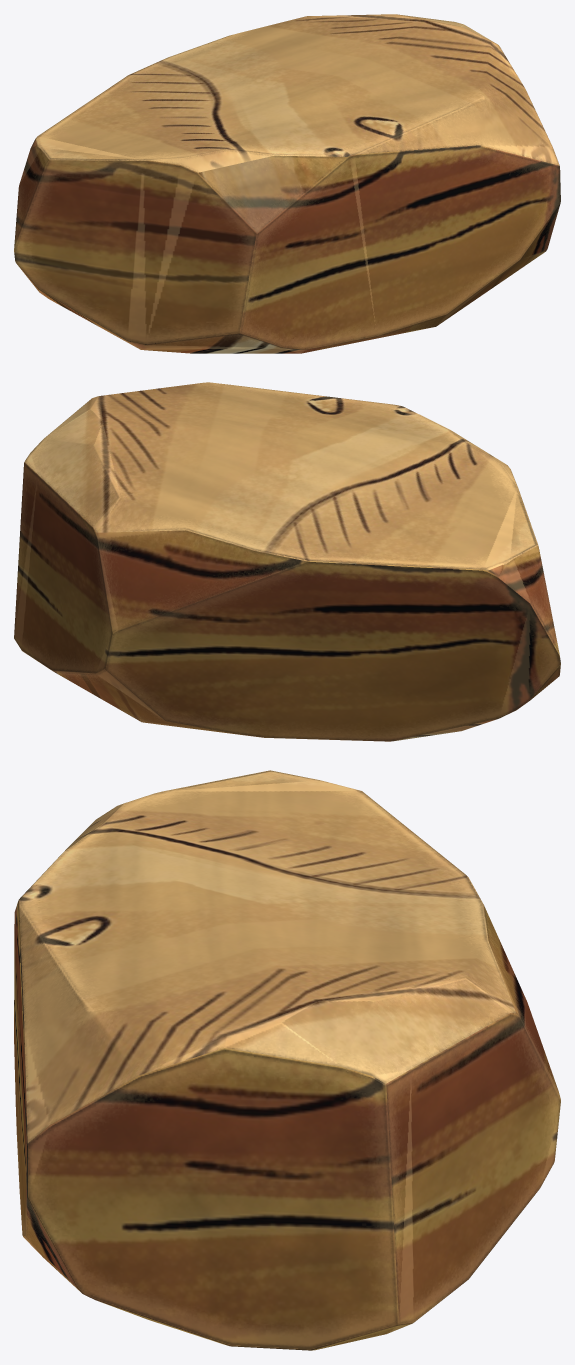
File: rock_02.glb
3 renders of one model, top to bottom at view 1: azimuth 30°, elevation 25°; view 2: azimuth 150°, elevation 25°; view 3: azimuth 270°, elevation 25°, orthographic. The views are drawn at different scales.
Parts seen in each view (by area): view 1: rock_02; view 2: rock_02; view 3: rock_02.
Boxes of the visible parts, bbox=[...] form: rock_02: bbox=[14, 14, 560, 353]; rock_02: bbox=[14, 382, 560, 741]; rock_02: bbox=[14, 770, 560, 1350].
Bounding box in the file's own units: 0.6394 × 0.28 × 0.4395.
1 material, 1 textured.
